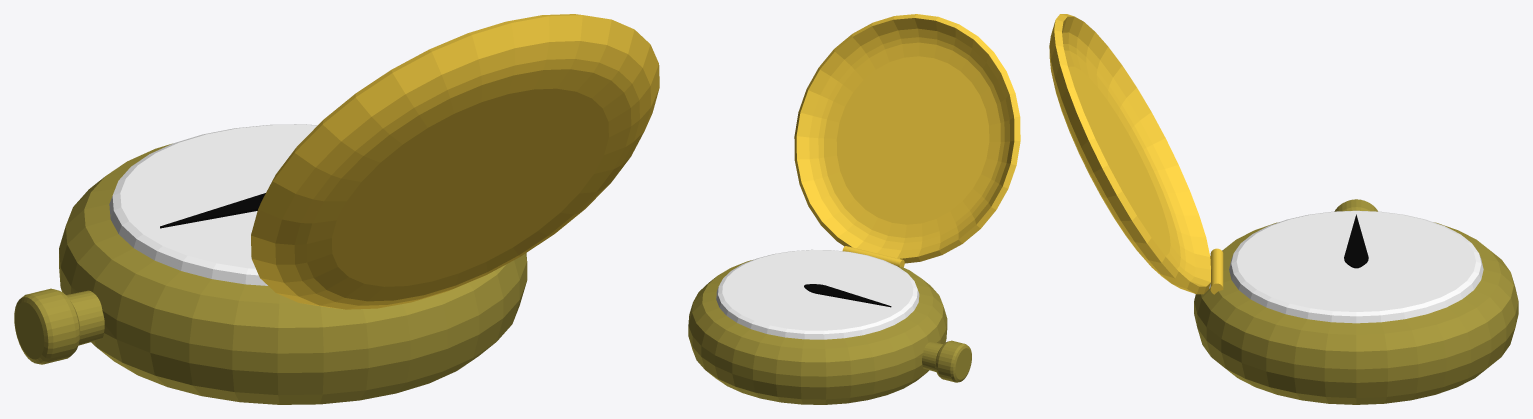
Rendered from Stopwatch.fbx.
3 views of the same model, side by side, from view 1: azimuth 30°, elevation 25°; view 2: azimuth 150°, elevation 25°; view 3: azimuth 270°, elevation 25° (orthographic). The views are drawn at different scales.
Visible parts, largest first — view 1: Cylinder.002, Cylinder.001, Plane; view 2: Cylinder.002, Cylinder.001, Plane; view 3: Cylinder.001, Cylinder.002, Plane.
Part boxes in pixels (<box>): Cylinder.002: <box>251,14,659,309</box>; Cylinder.001: <box>14,124,527,404</box>; Plane: <box>160,193,265,228</box>; Cylinder.002: <box>794,14,1020,267</box>; Cylinder.001: <box>688,249,971,404</box>; Plane: <box>804,284,891,307</box>; Cylinder.001: <box>1194,199,1518,404</box>; Cylinder.002: <box>1049,14,1223,294</box>; Plane: <box>1344,214,1368,268</box>.
Bounding box in the file's own units: 7.58 × 7.17 × 9.54.
